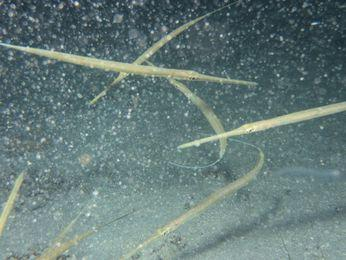Fistularia commersonii: (4, 34, 270, 101), (89, 137, 277, 222), (115, 66, 243, 157), (200, 78, 337, 162)
